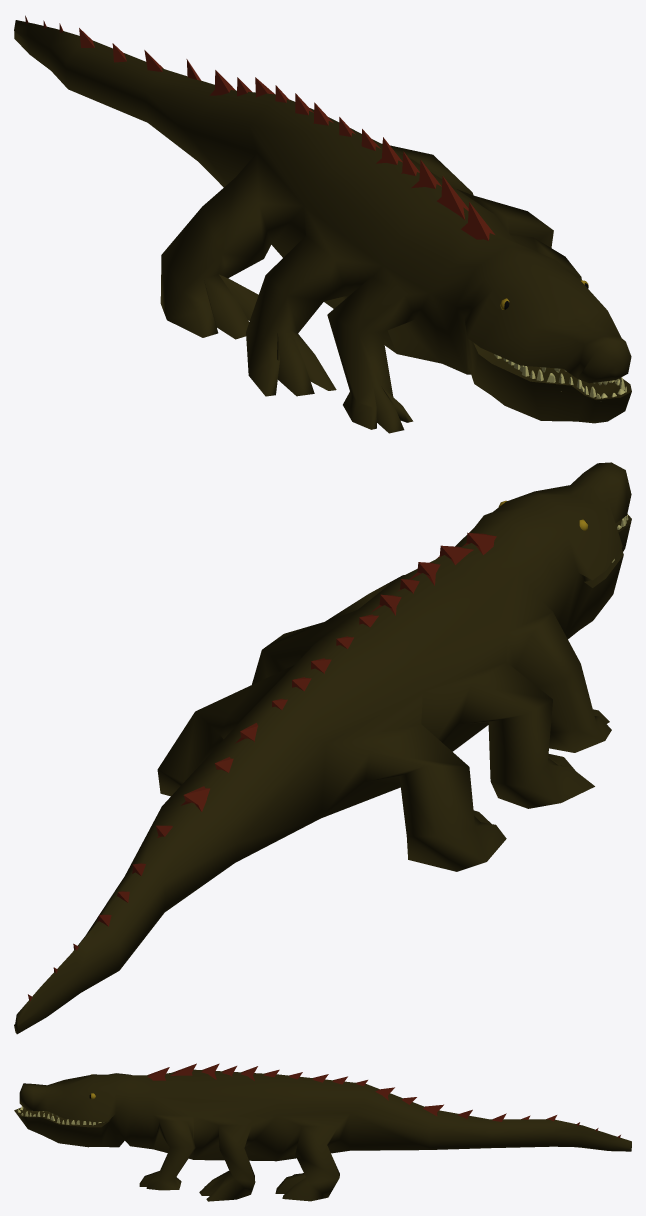
The model's file is cordila.fbx.
3 renders of one model, top to bottom at view 1: azimuth 30°, elevation 25°; view 2: azimuth 150°, elevation 25°; view 3: azimuth 270°, elevation 25°, orthographic. The views are drawn at different scales.
Visible parts, largest first — view 1: body, Pyramid, Pyramid_1; view 2: body; view 3: body.
Boxes of the visible parts, bbox=[...] form: body: bbox=[14, 20, 631, 433]; Pyramid: bbox=[461, 202, 494, 240]; Pyramid_1: bbox=[437, 176, 468, 219]; body: bbox=[14, 462, 631, 1034]; body: bbox=[14, 1069, 631, 1201].
Size of the model in its own units: 482 by 266 by 1531.
Materials: 4 (4 with a texture image).
